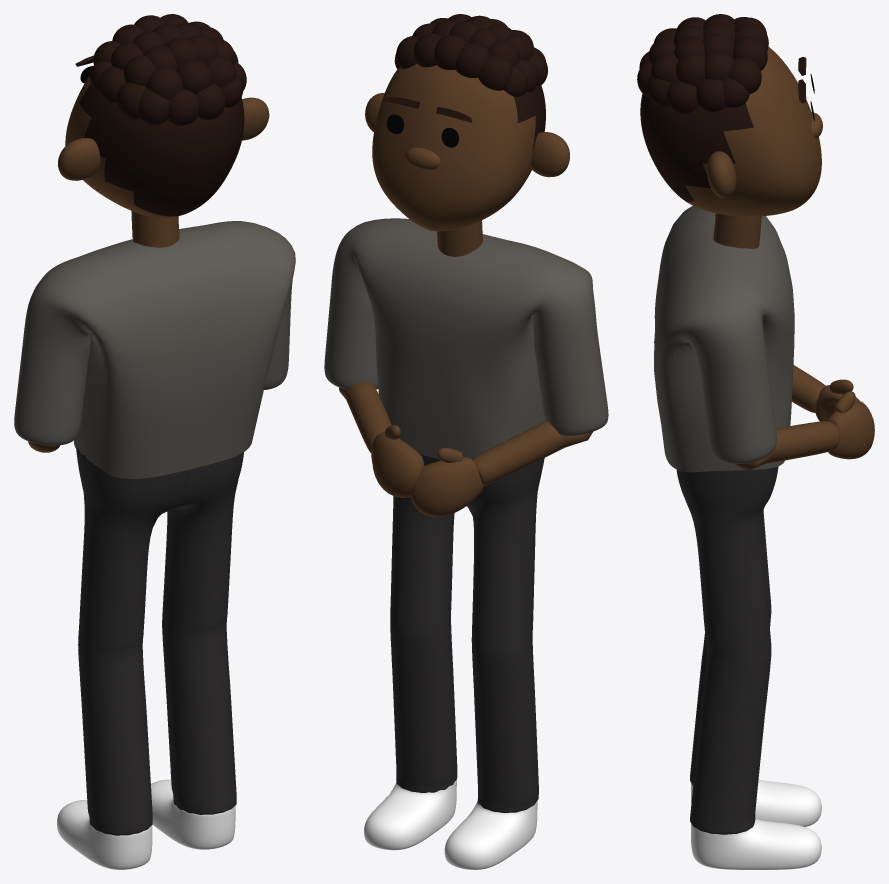
File: notPushinP.fbx
The picture shows the model from 3 angles, left to right: view 1: azimuth 30°, elevation 25°; view 2: azimuth 150°, elevation 25°; view 3: azimuth 270°, elevation 25°; orthographic projection. The views are drawn at different scales.
Parts seen in each view (by area): view 1: black-teen-shirt, black-teen-pants, black-teen-head, Cube.017, black-teen-shoes, black-teen-ears, black-teen-neck; view 2: black-teen-shirt, black-teen-pants, black-teen-head, black-teen-shoes, Cube.017, black-teen-hands, black-teen-arms, black-teen-ears, black-teen-neck, black-teen-nose; view 3: black-teen-shirt, black-teen-pants, black-teen-head, Cube.017, black-teen-shoes, black-teen-arms, black-teen-hands, black-teen-neck, black-teen-ears.
Part boxes in pixels (bbox=[...]): black-teen-shirt: bbox=[14, 221, 295, 478]; black-teen-pants: bbox=[76, 447, 243, 835]; black-teen-head: bbox=[65, 76, 244, 217]; Cube.017: bbox=[89, 14, 246, 125]; black-teen-shoes: bbox=[57, 779, 235, 869]; black-teen-ears: bbox=[58, 97, 269, 180]; black-teen-neck: bbox=[131, 211, 179, 247]; black-teen-shirt: bbox=[324, 218, 608, 458]; black-teen-pants: bbox=[390, 454, 544, 812]; black-teen-head: bbox=[372, 63, 545, 231]; black-teen-shoes: bbox=[364, 779, 537, 869]; Cube.017: bbox=[394, 14, 547, 96]; black-teen-hands: bbox=[371, 425, 483, 517]; black-teen-arms: bbox=[339, 382, 592, 485]; black-teen-ears: bbox=[365, 93, 569, 177]; black-teen-neck: bbox=[437, 220, 482, 256]; black-teen-nose: bbox=[405, 147, 440, 170]; black-teen-shirt: bbox=[654, 206, 794, 472]; black-teen-pants: bbox=[676, 466, 778, 834]; black-teen-head: bbox=[640, 47, 821, 216]; Cube.017: bbox=[637, 14, 768, 114]; black-teen-shoes: bbox=[691, 779, 821, 869]; black-teen-arms: bbox=[734, 365, 839, 470]; black-teen-hands: bbox=[815, 379, 874, 459]; black-teen-neck: bbox=[713, 213, 761, 248]; black-teen-ears: bbox=[707, 151, 736, 197].
Bounding box in the file's own units: 181 × 517 × 136.
